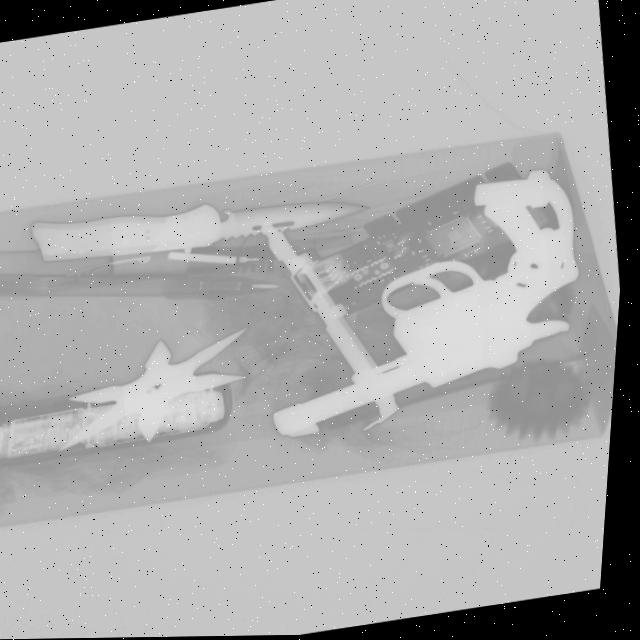knife: (26, 169, 378, 280)
pistol: (248, 165, 606, 443)
